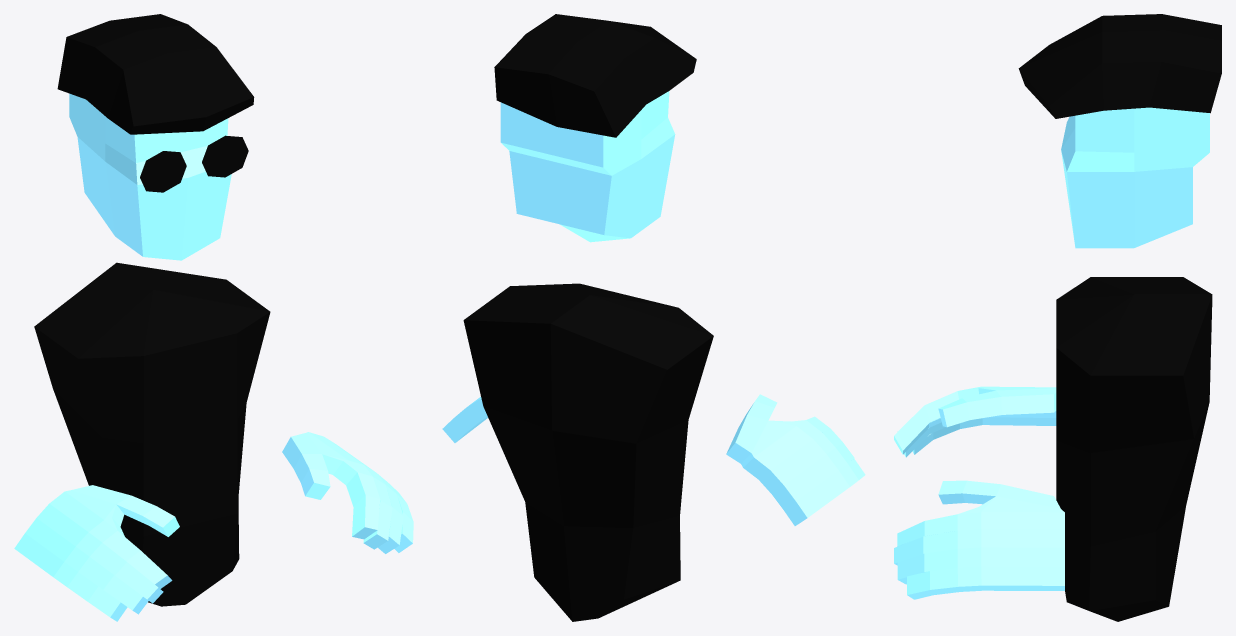
Rendered from MetaPupo 1.fbx.
The picture shows the model from 3 angles, left to right: view 1: azimuth 30°, elevation 25°; view 2: azimuth 150°, elevation 25°; view 3: azimuth 270°, elevation 25°; orthographic projection. The views are drawn at different scales.
Parts seen in each view (by area): view 1: Cube.001, Cube.002, Cube, Cube.004, Cube.003, Plane; view 2: Cube.001, Cube, Cube.002, Cube.004, Cube.003; view 3: Cube.001, Cube, Cube.002, Cube.003, Cube.004.
Boxes of the visible parts, bbox=[...] form: Cube.001: bbox=[34, 262, 270, 606]; Cube.002: bbox=[57, 14, 254, 134]; Cube: bbox=[69, 93, 231, 260]; Cube.004: bbox=[14, 485, 179, 621]; Cube.003: bbox=[282, 432, 413, 553]; Plane: bbox=[140, 135, 248, 192]; Cube.001: bbox=[463, 283, 713, 621]; Cube: bbox=[500, 91, 675, 242]; Cube.002: bbox=[494, 14, 696, 137]; Cube.004: bbox=[726, 394, 865, 525]; Cube.003: bbox=[442, 397, 488, 442]; Cube.001: bbox=[1056, 277, 1212, 621]; Cube: bbox=[1061, 107, 1209, 248]; Cube.002: bbox=[1018, 14, 1221, 118]; Cube.003: bbox=[894, 480, 1064, 599]; Cube.004: bbox=[894, 386, 1056, 457].
Size of the model in its own units: 408 by 318 by 633.
